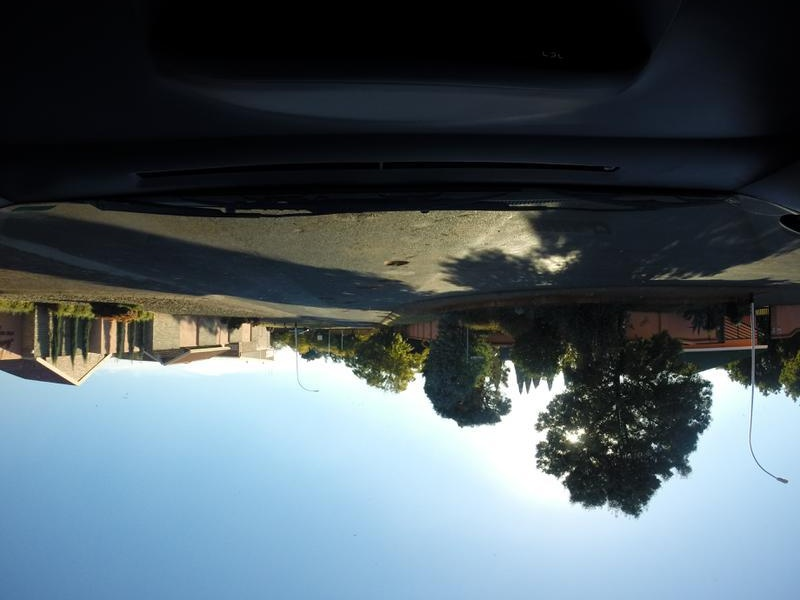pothole: (386, 256, 409, 270), (354, 283, 377, 293), (377, 277, 399, 287), (343, 300, 359, 307), (316, 297, 337, 302)
